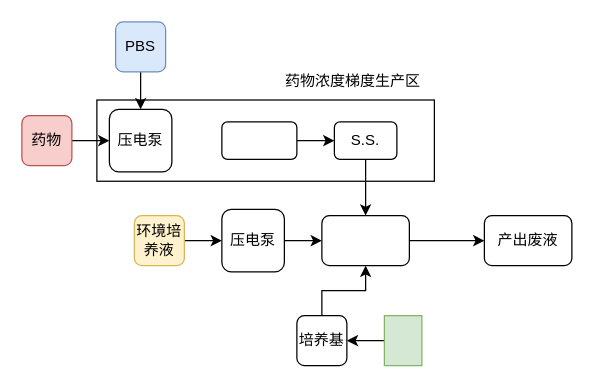
This 594x388 diagram has some shape labels left out. The box of each missing label's shape, as (x1, y1, x2, y2) in pixels:
MCGG: (221, 121, 297, 159)
接种细胞: (383, 314, 422, 366)
细胞腔室: (321, 214, 409, 266)
